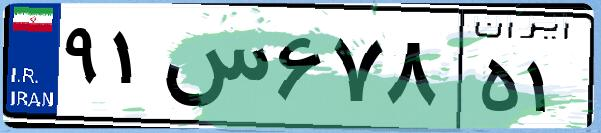1: (525, 38, 570, 115), (110, 28, 158, 98)
5: (475, 38, 525, 113)
6: (270, 28, 330, 110)
7: (330, 28, 385, 110)
8: (385, 28, 445, 110)
9: (57, 26, 110, 100)
س: (158, 20, 270, 120)
